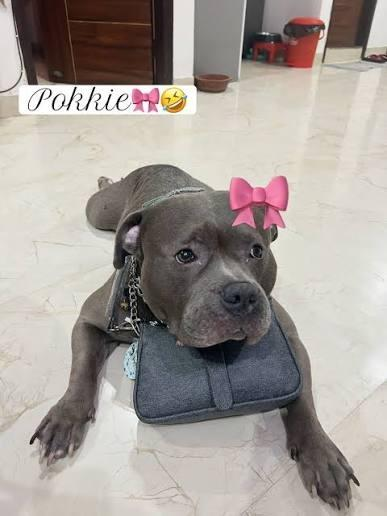adult_dog: (28, 162, 362, 509)
